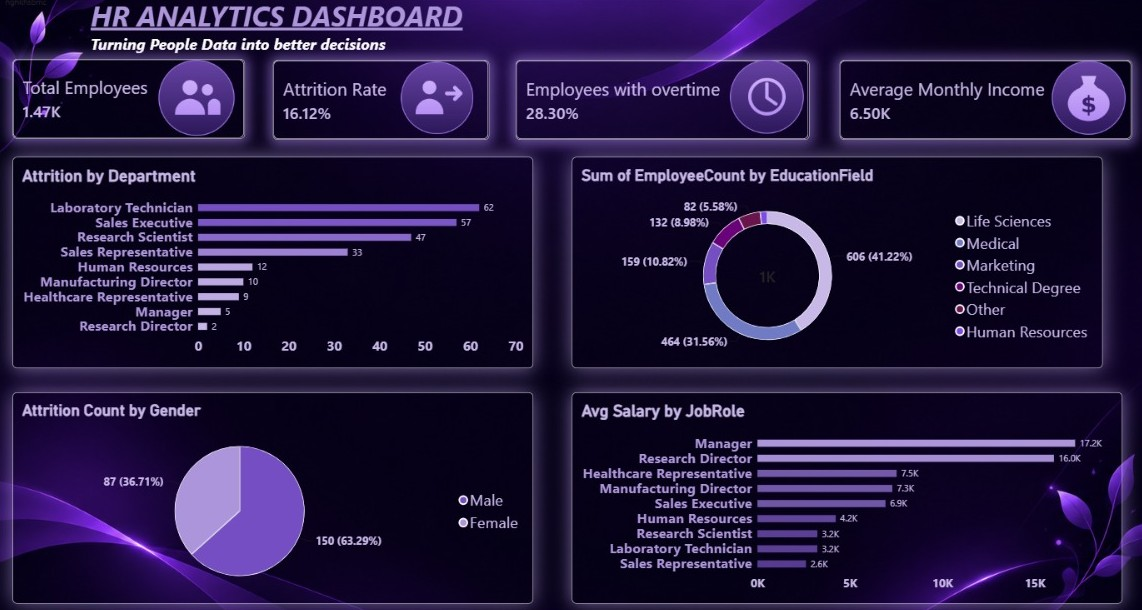

The dashboard page shown, as its layout file describes it:
{"tool":"powerbi","page":{"name":"Page 1","canvas":[2000,1080],"ordinal":0},"visuals":[{"type":"textbox","box":[10.7,0,405.2,280.9],"z":0},{"type":"textbox","box":[160.8,0,671.1,102.9],"z":1000},{"type":"cardVisual","fields":{"Data":["Count(HR-Employee-Attrition (1).EmployeeNumber)"]},"box":[23.6,109.3,405.2,139.4],"z":2000},{"type":"cardVisual","fields":{"Data":["HR-Employee-Attrition (1).Attrition Rate"]},"box":[478.1,111.5,377.4,139.4],"z":3000},{"type":"cardVisual","fields":{"Data":["HR-Employee-Attrition (1).Overtime %"]},"box":[902.7,111.5,512.4,139.4],"z":4000},{"type":"cardVisual","fields":{"Data":["Avg(HR-Employee-Attrition (1).MonthlyIncome)"]},"box":[1466.6,111.5,510.3,139.4],"z":5000},{"type":"image","box":[272.3,107.2,143.7,139.4],"z":6000},{"type":"image","box":[699,107.2,132.9,139.4],"z":7000},{"type":"image","box":[1265,107.2,150.1,135.1],"z":8000},{"type":"image","box":[1826.8,109.3,150.1,135.1],"z":9000},{"type":"clusteredBarChart","title":"Attrition by Department","fields":{"Category":["HR-Employee-Attrition (1).JobRole"],"Y":["HR-Employee-Attrition (1).Attrition Count"]},"box":[23.6,280.9,909.1,368.8],"z":10000},{"type":"donutChart","fields":{"Category":["HR-Employee-Attrition (1).EducationField"],"Y":["Sum(HR-Employee-Attrition (1).EmployeeCount)"]},"box":[999.1,280.9,926.2,368.8],"z":11000},{"type":"pieChart","fields":{"Category":["HR-Employee-Attrition (1).Gender"],"Y":["HR-Employee-Attrition (1).Attrition Count"]},"box":[23.6,690.4,909,369],"z":11001},{"type":"barChart","fields":{"Category":["HR-Employee-Attrition (1).JobRole"],"Y":["HR-Employee-Attrition (1).Avg Salary"]},"box":[999.1,690.4,960.6,368.8],"z":11002}]}

Visuals, with their boxes in screenshot pixels (x1, y1, x2, y2), scaled from the page's 2000x1080 canvas onto the 1142x610 screenshot:
textbox: locate(6, 0, 237, 159)
textbox: locate(92, 0, 475, 58)
cardVisual - Count(HR-Employee-Attrition (1).EmployeeNumber): locate(13, 62, 245, 140)
cardVisual - HR-Employee-Attrition (1).Attrition Rate: locate(273, 63, 488, 142)
cardVisual - HR-Employee-Attrition (1).Overtime %: locate(515, 63, 808, 142)
cardVisual - Avg(HR-Employee-Attrition (1).MonthlyIncome): locate(837, 63, 1129, 142)
image: locate(155, 61, 238, 139)
image: locate(399, 61, 475, 139)
image: locate(722, 61, 808, 137)
image: locate(1043, 62, 1129, 138)
"Attrition by Department" clusteredBarChart: locate(13, 159, 533, 367)
donutChart - HR-Employee-Attrition (1).EducationField x Sum(HR-Employee-Attrition (1).EmployeeCount): locate(570, 159, 1099, 367)
pieChart - HR-Employee-Attrition (1).Gender x HR-Employee-Attrition (1).Attrition Count: locate(13, 390, 533, 598)
barChart - HR-Employee-Attrition (1).JobRole x HR-Employee-Attrition (1).Avg Salary: locate(570, 390, 1119, 598)
